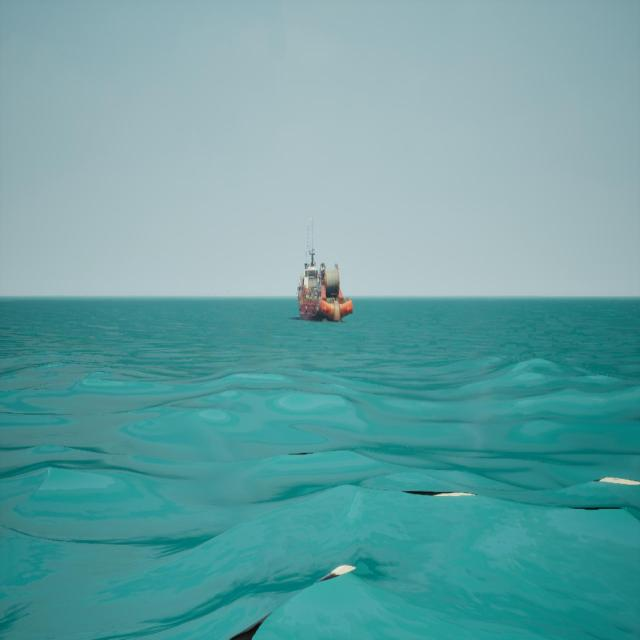tug boat: (294, 219, 351, 325)
